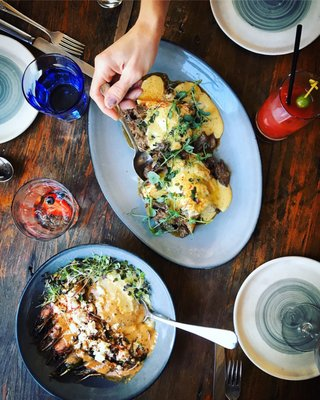burger: (0, 0, 87, 59)
pizza: (233, 256, 320, 381)
salad: (137, 293, 237, 351)
sushi: (85, 29, 262, 270), (16, 243, 177, 400)
